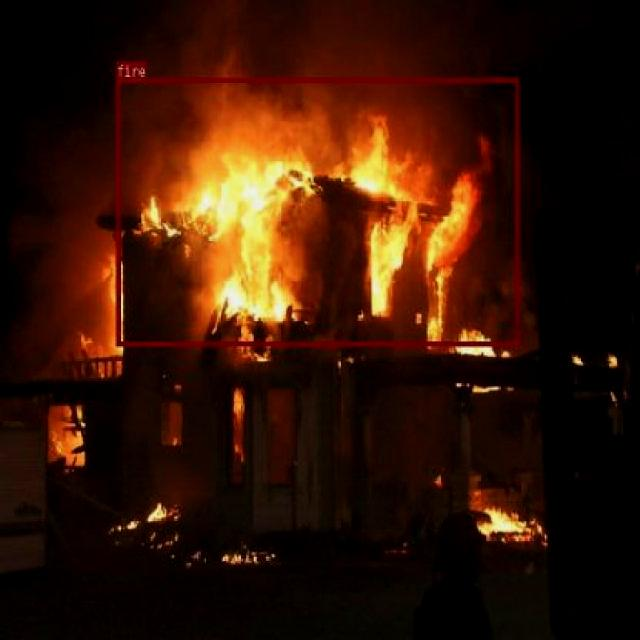fire: (116, 77, 518, 346)
